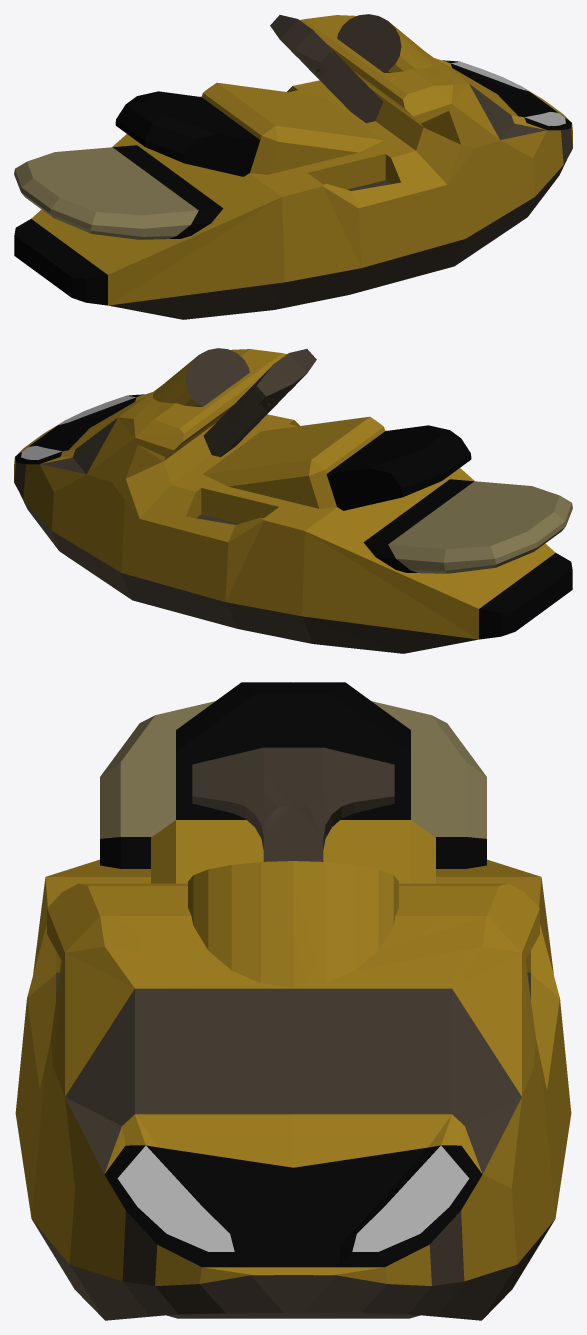
File: JetSkiColoredFBX.fbx
3 renders of one model, top to bottom at view 1: azimuth 30°, elevation 25°; view 2: azimuth 150°, elevation 25°; view 3: azimuth 270°, elevation 25°, orthographic. The views are drawn at different scales.
Parts seen in each view (by area): view 1: polySurface19; view 2: polySurface19; view 3: polySurface19.
Part boxes in pixels (box(x1,y1,x2,y2)): polySurface19: box(14, 14, 572, 319); polySurface19: box(14, 348, 572, 653); polySurface19: box(15, 682, 571, 1320).
Size of the model in its own units: 11.54 by 5.1 by 5.36.
